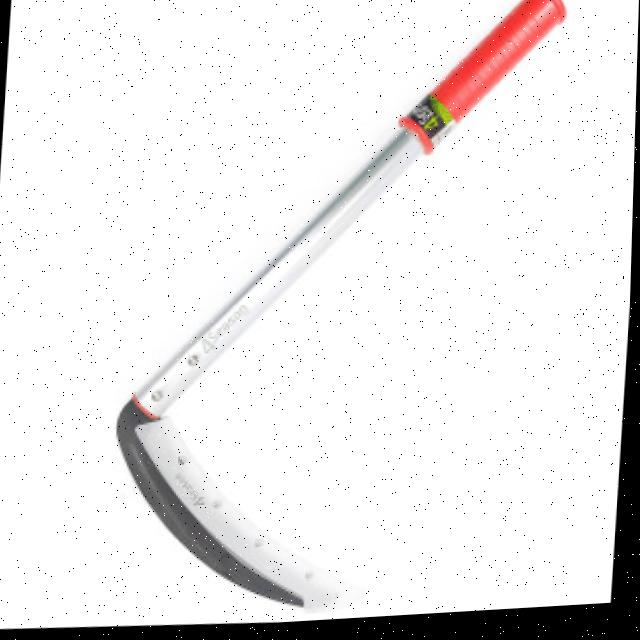sickle: (87, 0, 610, 635)
